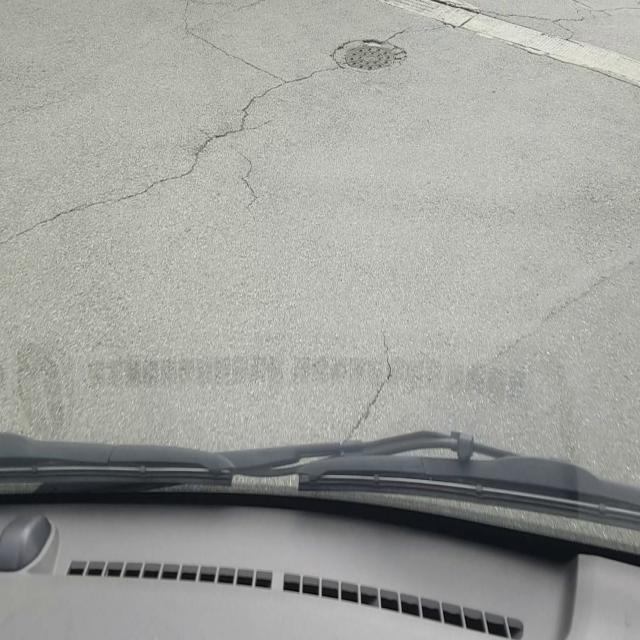Pothole: (330, 32, 408, 74)
